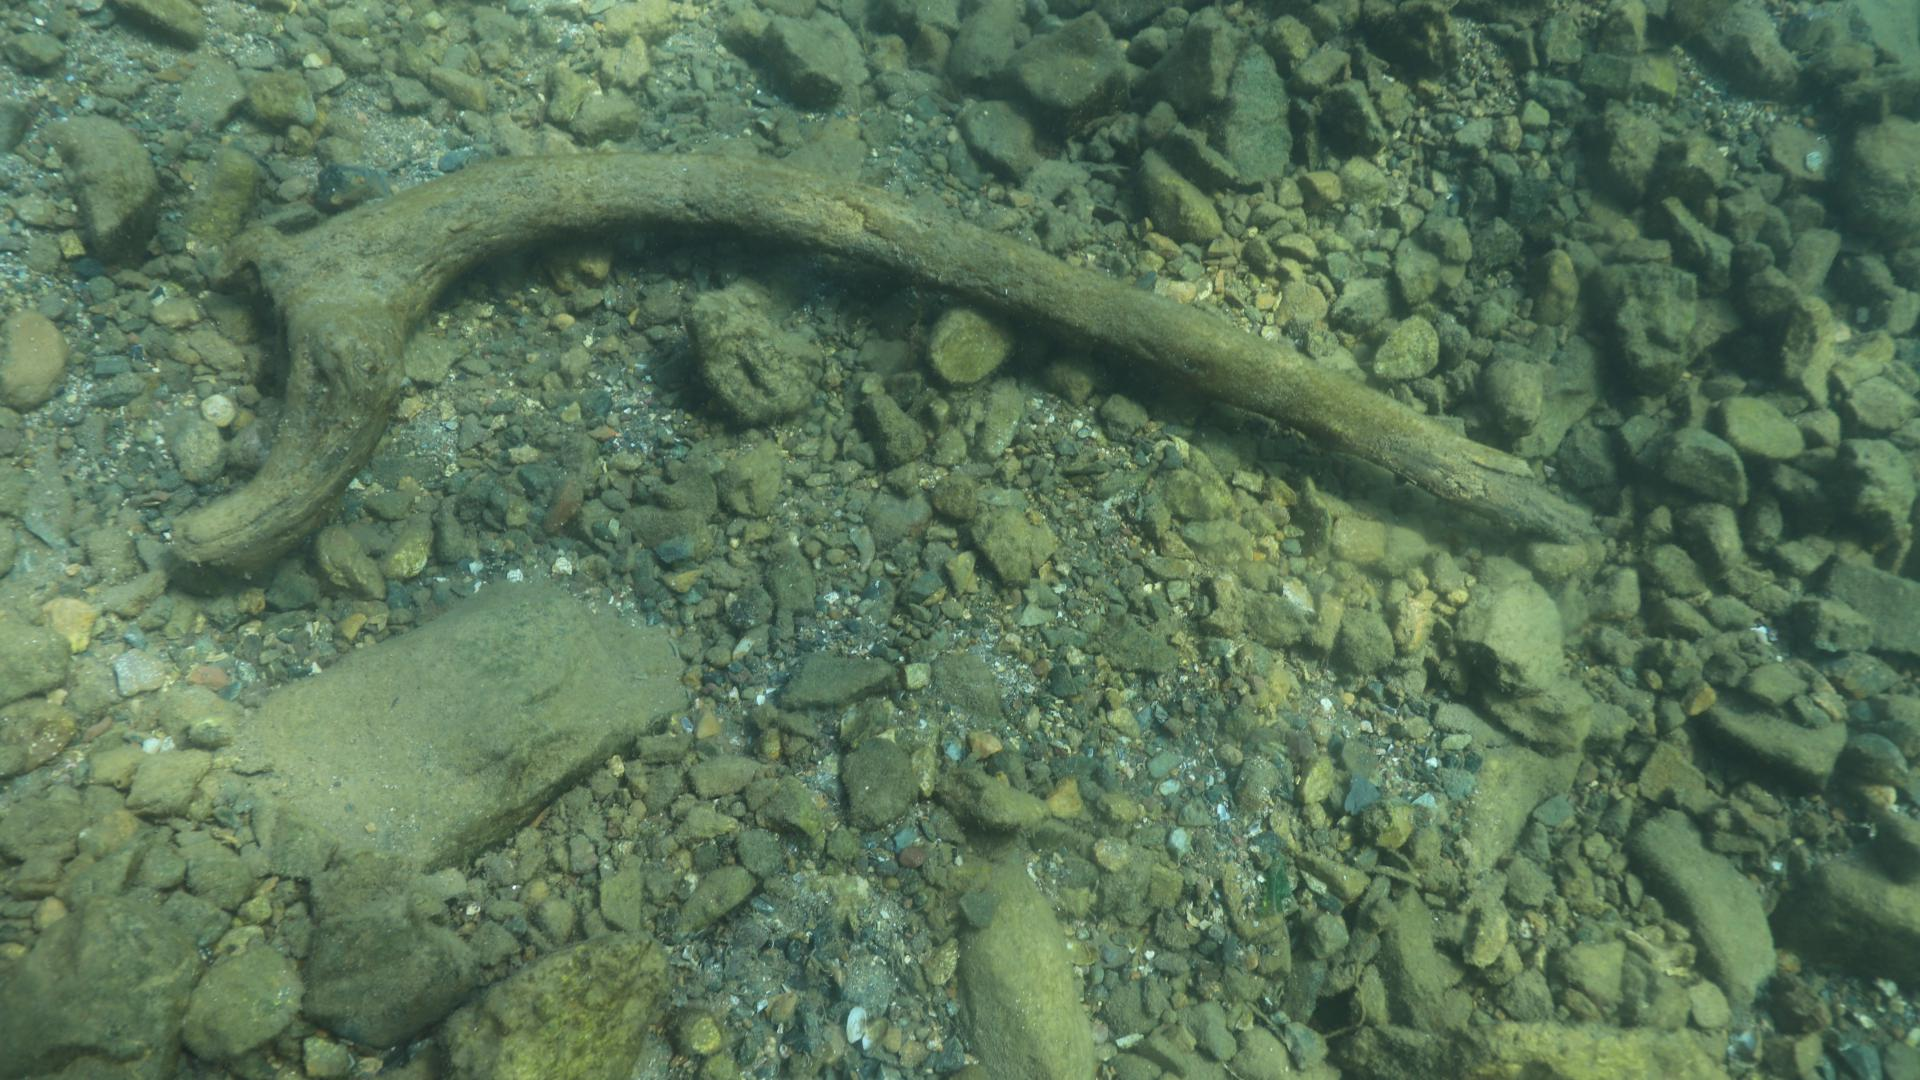wood: (161, 148, 1592, 595)
